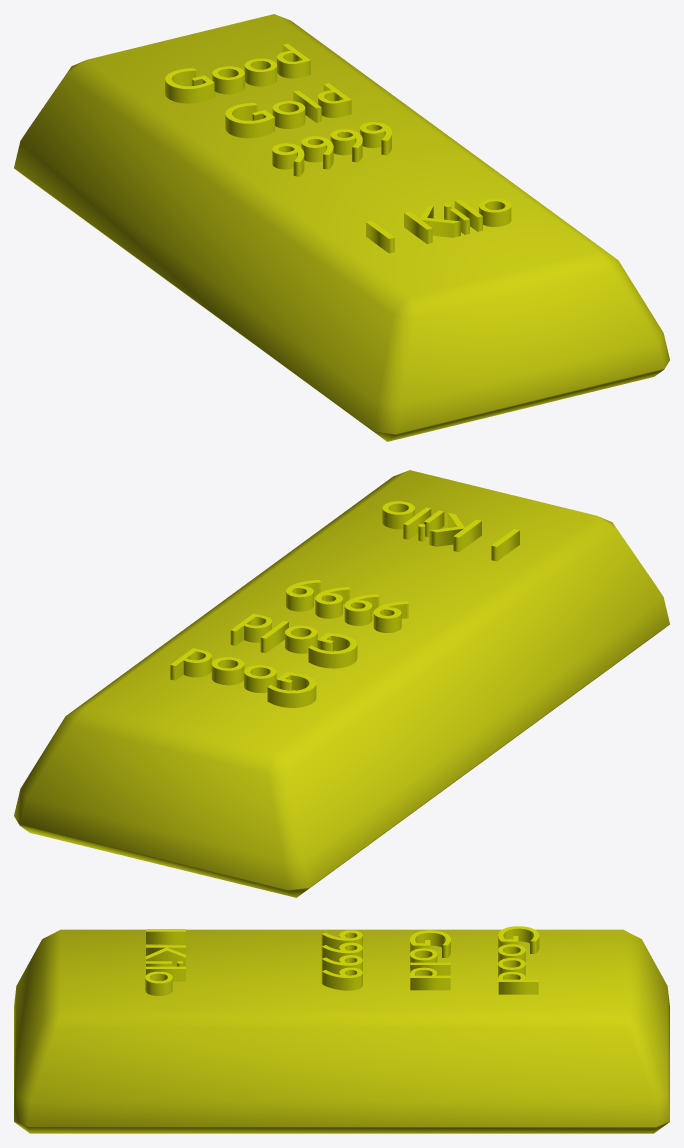
The model's file is Gold.glb.
The picture shows the model from 3 angles, top to bottom: view 1: azimuth 30°, elevation 25°; view 2: azimuth 150°, elevation 25°; view 3: azimuth 270°, elevation 25°; orthographic projection. The views are drawn at different scales.
Visible parts, largest first — view 1: Cube, Text; view 2: Cube, Text; view 3: Cube, Text.
Part boxes in pixels (x1,y1,x2,y2): Cube: (14,14,669,441); Text: (165,43,511,253); Cube: (14,470,669,897); Text: (170,501,519,707); Cube: (14,929,669,1133); Text: (145,926,539,995).
Bounding box in the file's own units: 1.82 × 0.8112 × 4.02.
